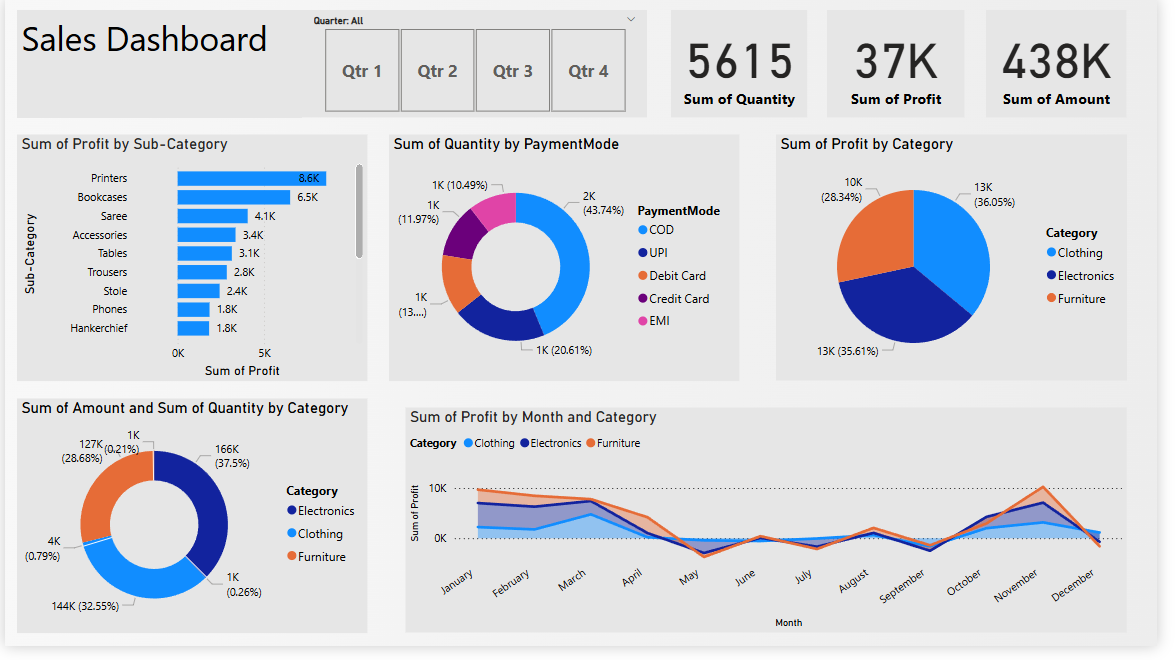

This screenshot's page, from the dashboard's own definition file:
{"tool":"powerbi","page":{"name":"Sales_Dashboard","canvas":[1280,720],"ordinal":0},"visuals":[{"type":"textbox","box":[13.3,13.3,316.7,120],"z":0},{"type":"card","fields":{"Values":["Sum(Details.Quantity)"]},"box":[740.4,13.6,151.4,119.6],"z":1000},{"type":"card","fields":{"Values":["Sum(Details.Profit)"]},"box":[913.1,13.6,152.9,119.6],"z":2000},{"type":"card","fields":{"Values":["Sum(Details.Amount)"]},"box":[1090.2,13.6,156,119.6],"z":3000},{"type":"barChart","fields":{"Y":["Sum(Details.Profit)"],"Category":["Details.Sub-Category"]},"box":[13.6,151.4,389.2,274.1],"z":4000},{"type":"donutChart","fields":{"Category":["Details.PaymentMode"],"Y":["Sum(Details.Quantity)"]},"box":[427,151.4,389.2,274.1],"z":5000},{"type":"pieChart","fields":{"Category":["Details.Category"],"Y":["Sum(Details.Profit)"]},"box":[856.7,151.7,390,273.3],"z":6000},{"type":"donutChart","fields":{"Y":["Sum(Details.Amount)","Sum(Details.Quantity)"],"Category":["Details.Category"]},"box":[13.6,445.2,389.2,260.4],"z":7000},{"type":"stackedAreaChart","fields":{"Category":["Orders.Order Date.Variation.Date Hierarchy.Month"],"Y":["Sum(Details.Profit)"],"Series":["Details.Category"]},"box":[445.2,455.8,801,249.8],"z":8000},{"type":"slicer","fields":{"Values":["Orders.Order Date.Variation.Date Hierarchy.Quarter"]},"box":[330.1,13.6,383.1,119.6],"z":9000}]}

Visuals, with their boxes in screenshot pixels (x1, y1, x2, y2), scaled from the page's 1280x720 canvas onto the 1176x660 screenshot:
textbox: left=12, top=12, right=303, bottom=122
card - Sum(Details.Quantity): left=680, top=12, right=819, bottom=122
card - Sum(Details.Profit): left=839, top=12, right=979, bottom=122
card - Sum(Details.Amount): left=1002, top=12, right=1145, bottom=122
barChart - Sum(Details.Profit) x Details.Sub-Category: left=12, top=139, right=370, bottom=390
donutChart - Details.PaymentMode x Sum(Details.Quantity): left=392, top=139, right=750, bottom=390
pieChart - Details.Category x Sum(Details.Profit): left=787, top=139, right=1145, bottom=390
donutChart - Sum(Details.Amount) x Sum(Details.Quantity): left=12, top=408, right=370, bottom=647
stackedAreaChart - Orders.Order Date.Variation.Date Hierarchy.Month x Sum(Details.Profit): left=409, top=418, right=1145, bottom=647
slicer - Orders.Order Date.Variation.Date Hierarchy.Quarter: left=303, top=12, right=655, bottom=122
